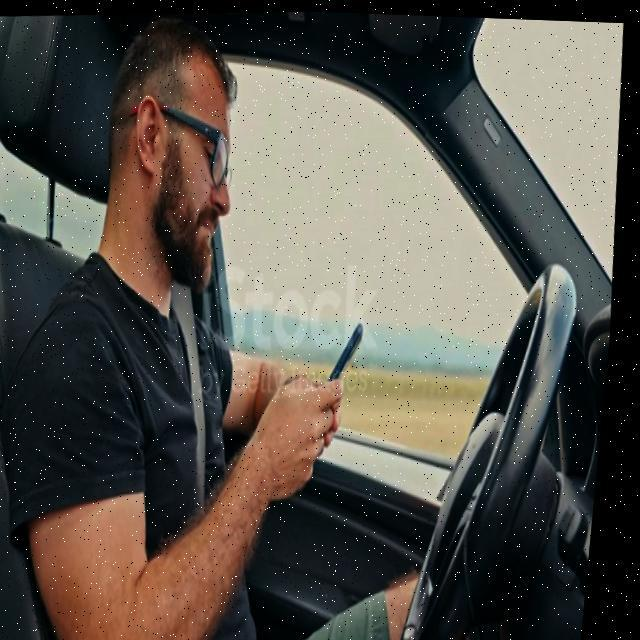PhoneCall: (320, 316, 373, 410)
